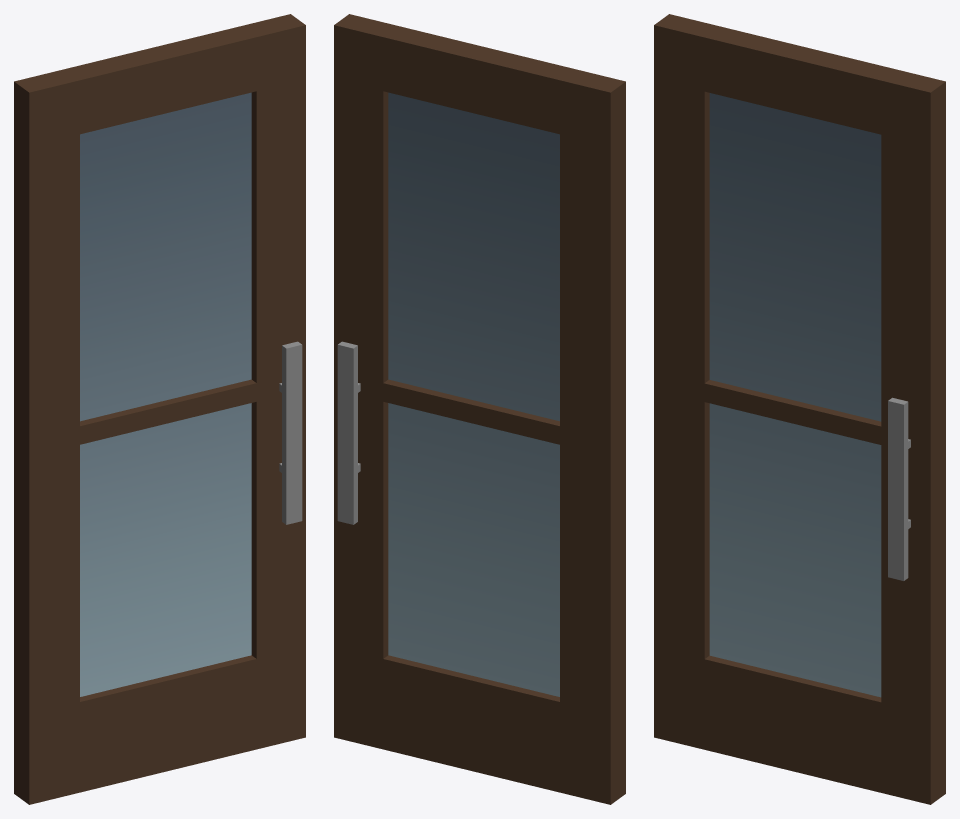
The model's file is SM_Buildings_School_01_Door_L.fbx.
3 renders of one model, left to right at view 1: azimuth 30°, elevation 25°; view 2: azimuth 150°, elevation 25°; view 3: azimuth 330°, elevation 25°, orthographic.
Parts seen in each view (by area): view 1: SM_Buildings_School_01_Door_L; view 2: SM_Buildings_School_01_Door_L; view 3: SM_Buildings_School_01_Door_L.
Part boxes in pixels (<box>): SM_Buildings_School_01_Door_L: <box>14,14,305,804</box>; SM_Buildings_School_01_Door_L: <box>334,14,625,804</box>; SM_Buildings_School_01_Door_L: <box>654,14,945,804</box>.
Size of the model in its own units: 1.25 by 3.08 by 0.3006.
